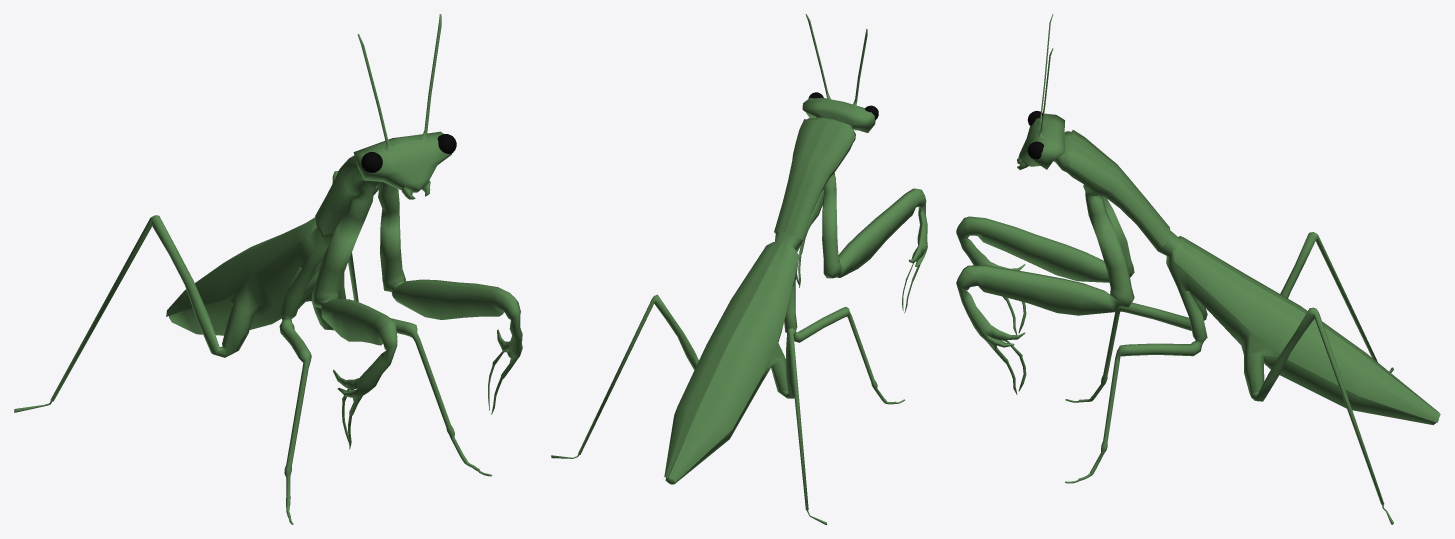
Rendered from mantis.glb.
3 views of the same model, side by side, from view 1: azimuth 30°, elevation 25°; view 2: azimuth 150°, elevation 25°; view 3: azimuth 270°, elevation 25° (orthographic). The views are drawn at different scales.
Parts seen in each view (by area): view 1: Cube_0, Cube.001_5, Sphere_4; view 2: Cube.001_5, Cube_0; view 3: Cube_0, Cube.001_5.
Boxes of the visible parts, <box> form: Cube_0: <box>14,14,522,524</box>; Cube.001_5: <box>166,155,355,316</box>; Sphere_4: <box>361,134,456,172</box>; Cube.001_5: <box>664,119,855,482</box>; Cube_0: <box>551,14,927,524</box>; Cube_0: <box>956,14,1438,524</box>; Cube.001_5: <box>1068,130,1440,422</box>.
Bounding box in the file's own units: 2.26 × 2.83 × 2.98.
